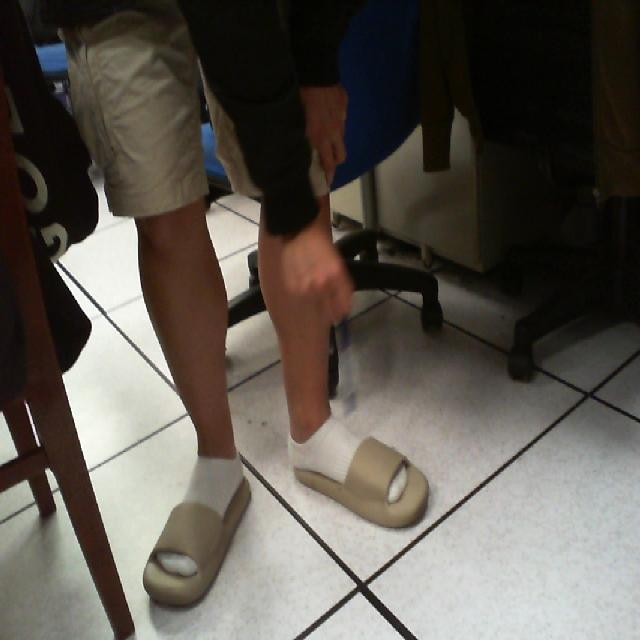Pen: (322, 297, 386, 438)
